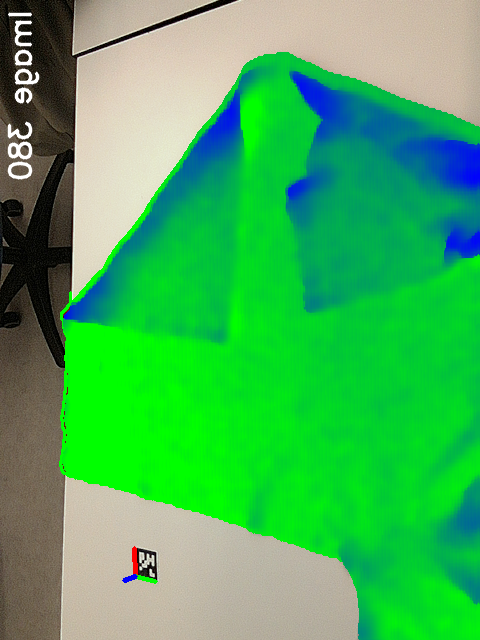V: (290, 271, 354, 323), (192, 302, 245, 356)
